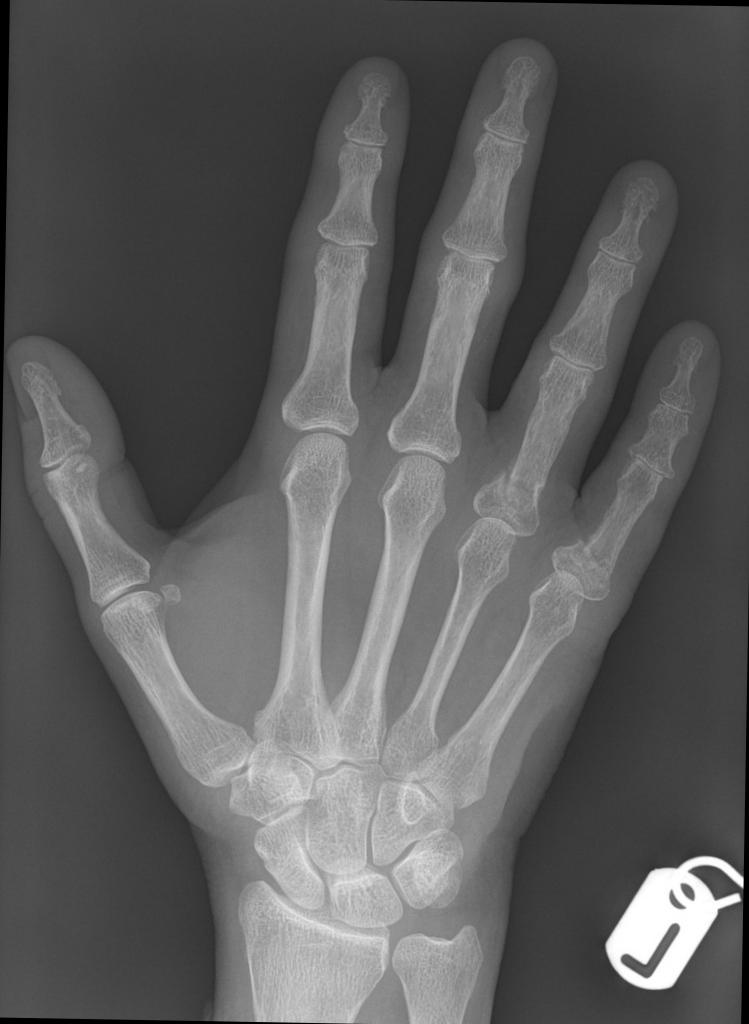fracture: (574, 538, 614, 578), (495, 468, 514, 498)
